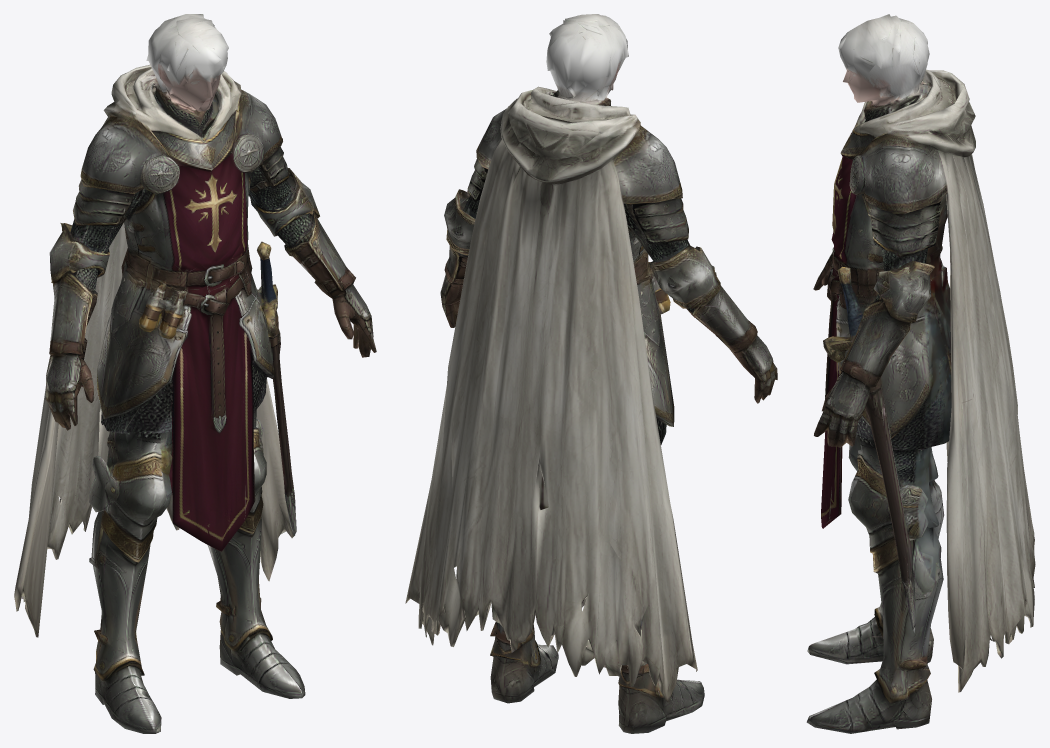
The model's file is pipelinetest.glb.
The picture shows the model from 3 angles, left to right: view 1: azimuth 30°, elevation 25°; view 2: azimuth 150°, elevation 25°; view 3: azimuth 270°, elevation 25°; orthographic projection. The views are drawn at different scales.
Visible parts, largest first — view 1: Mesh_0; view 2: Mesh_0; view 3: Mesh_0.
Boxes of the visible parts, <box> form: Mesh_0: <box>14,14,376,733</box>; Mesh_0: <box>405,14,777,733</box>; Mesh_0: <box>806,14,1035,733</box>.
Size of the model in its own units: 0.9479 by 1.91 by 0.5904.
Materials: 1 (1 with a texture image).
